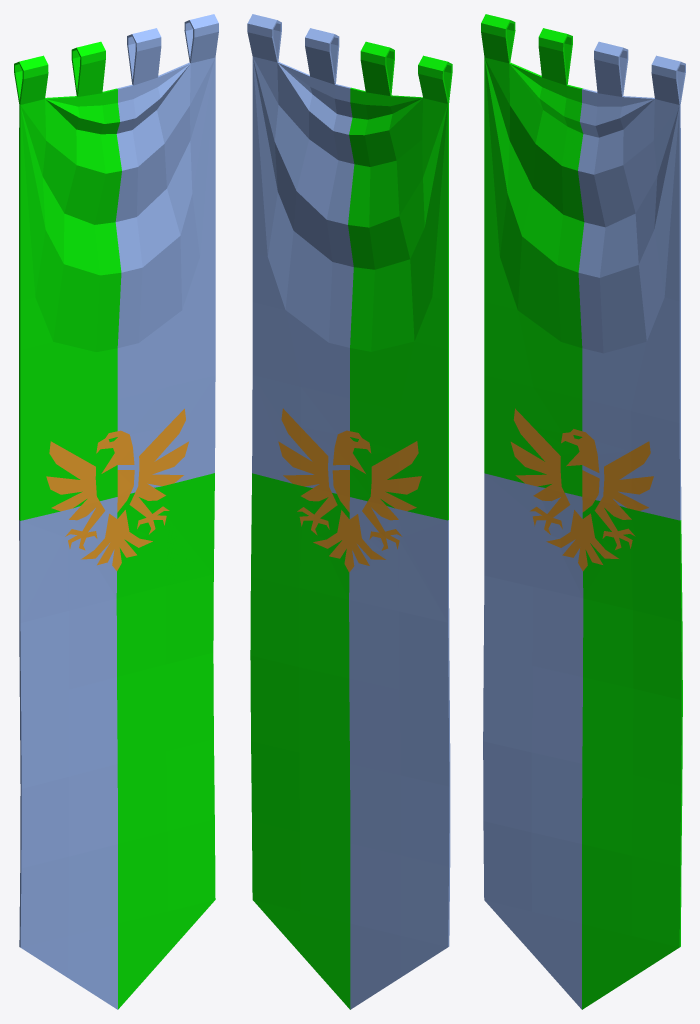
File: SM_Flag_Banner_Big_B_Fantasy.fbx
3 views of the same model, side by side, from view 1: azimuth 30°, elevation 25°; view 2: azimuth 150°, elevation 25°; view 3: azimuth 330°, elevation 25° (orthographic).
Visible parts, largest first — view 1: flag-banner-big-b-fantasy; view 2: flag-banner-big-b-fantasy; view 3: flag-banner-big-b-fantasy.
Part boxes in pixels (left/top/right/bottom): flag-banner-big-b-fantasy: left=14, top=14, right=218, bottom=1009; flag-banner-big-b-fantasy: left=247, top=14, right=452, bottom=1009; flag-banner-big-b-fantasy: left=481, top=14, right=685, bottom=1009.
Bounding box in the file's own units: 0.9569 × 4.55 × 0.0886.
